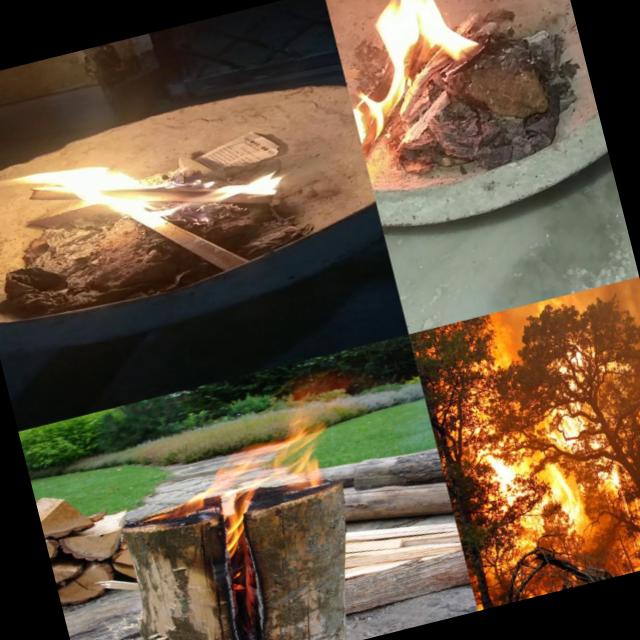fire: (409, 275, 640, 610), (0, 106, 296, 267), (122, 406, 348, 574), (323, 0, 521, 161)
